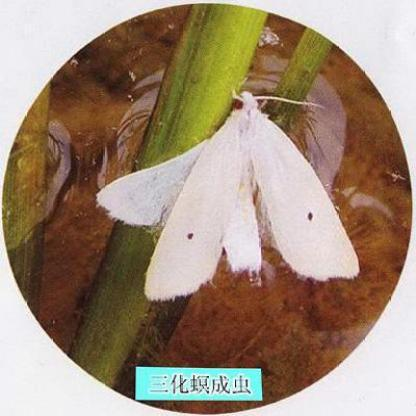stem-borer: (94, 90, 360, 302)
